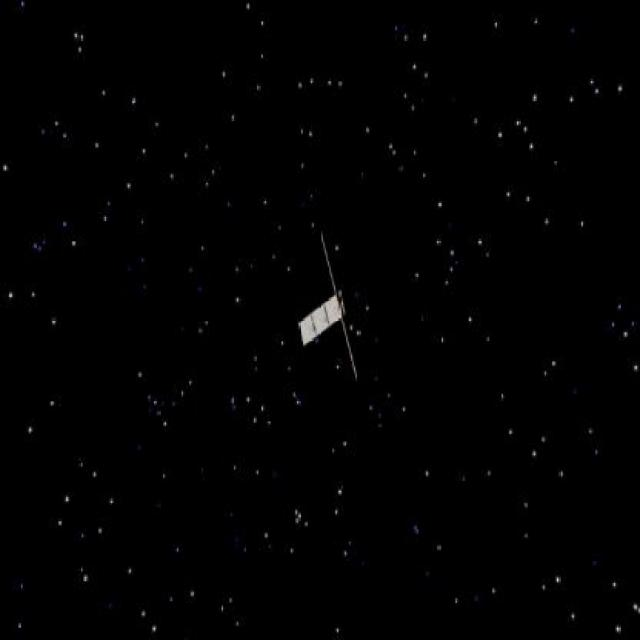medium_debris: (298, 229, 364, 392)
